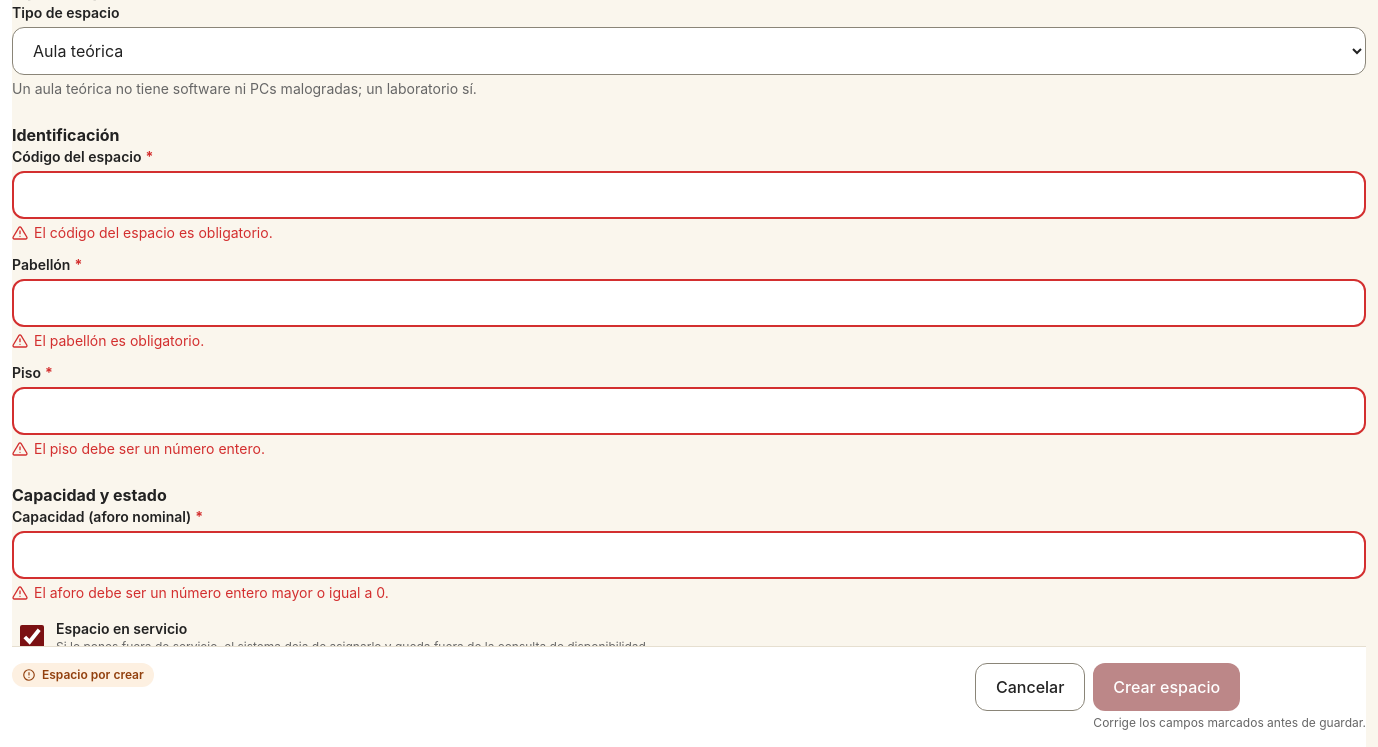
Formulario de espacios (Issue 4.15) › alta de un espacio › muestra software y PCs cuando el tipo es laboratorio
The image size is (1378, 747).
Select "Laboratorio" in the dropdown labelled "Tipo de espacio" at coordinates (689, 51), box [12,27,1366,75]
(page scrolled)
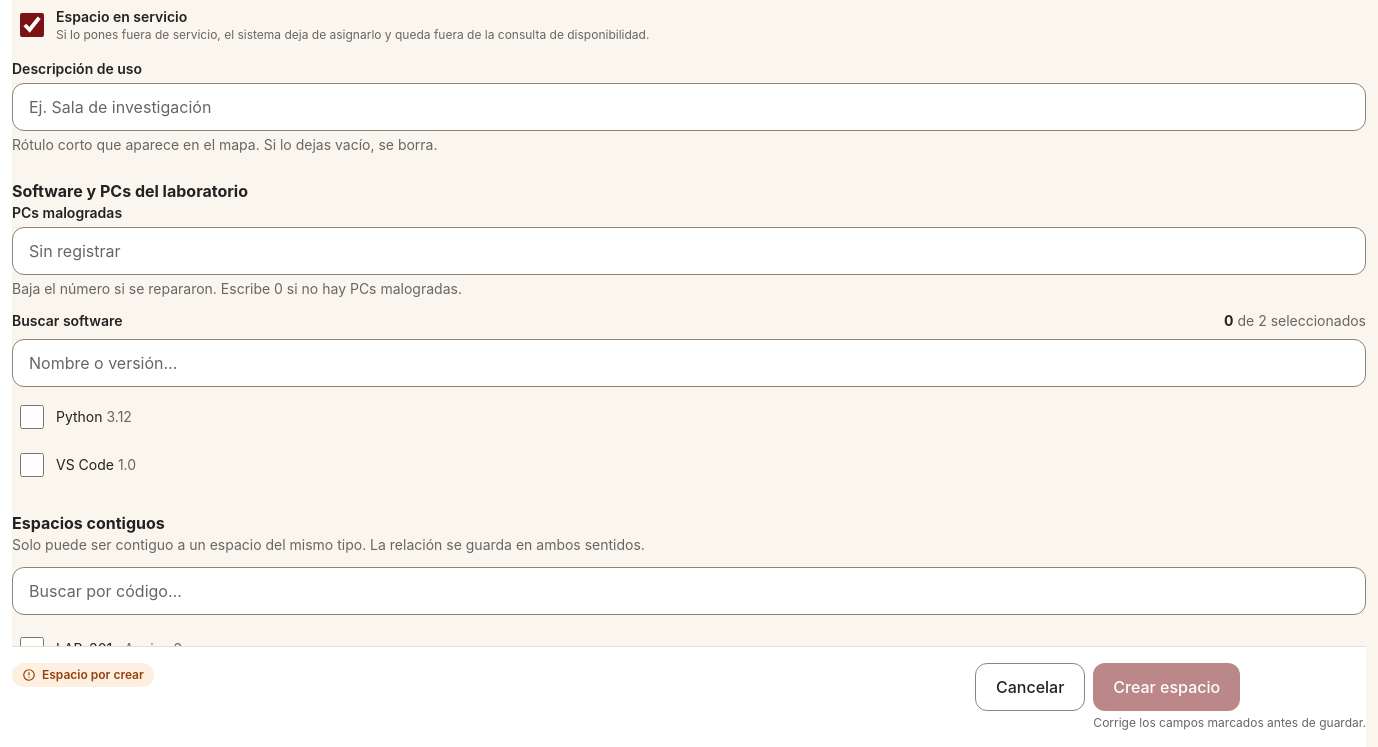
expect the number field labelled "PCs malogradas" is shown: met, box [12,227,1366,275]
expect the search field labelled "Buscar software" is shown: met, box [12,339,1366,387]
